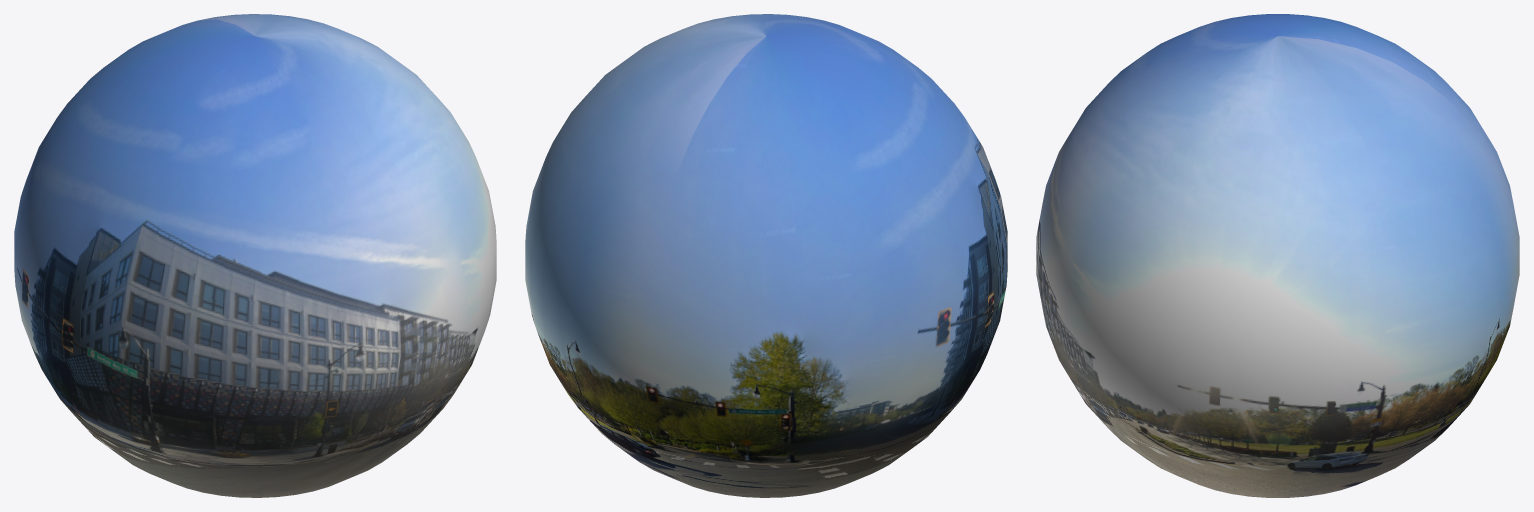
Rendered from enter_the_portal_round_3.glb.
The picture shows the model from 3 angles, left to right: view 1: azimuth 30°, elevation 25°; view 2: azimuth 150°, elevation 25°; view 3: azimuth 270°, elevation 25°; orthographic projection.
Visible parts, largest first — view 1: Object_5; view 2: Object_5; view 3: Object_5.
Boxes of the visible parts, x1,y1,x2,y2 form: Object_5: (14,14,496,497); Object_5: (525,14,1007,497); Object_5: (1036,14,1519,497).
Size of the model in its own units: 85.53 by 86.12 by 85.83.
1 material, 1 textured.
